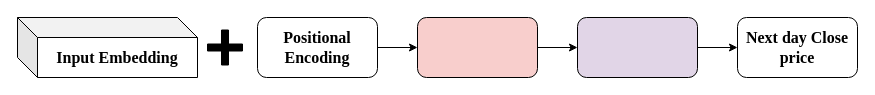
The diagram is 875 pixels wide and 95 high, and some of its shapes have lost their labels. The box of each missing label's shape, as (x1, y1, x2, y2) in pixels:
Transformer Decoder: (576, 16, 698, 78)
Transformer Encoder: (416, 16, 538, 78)
